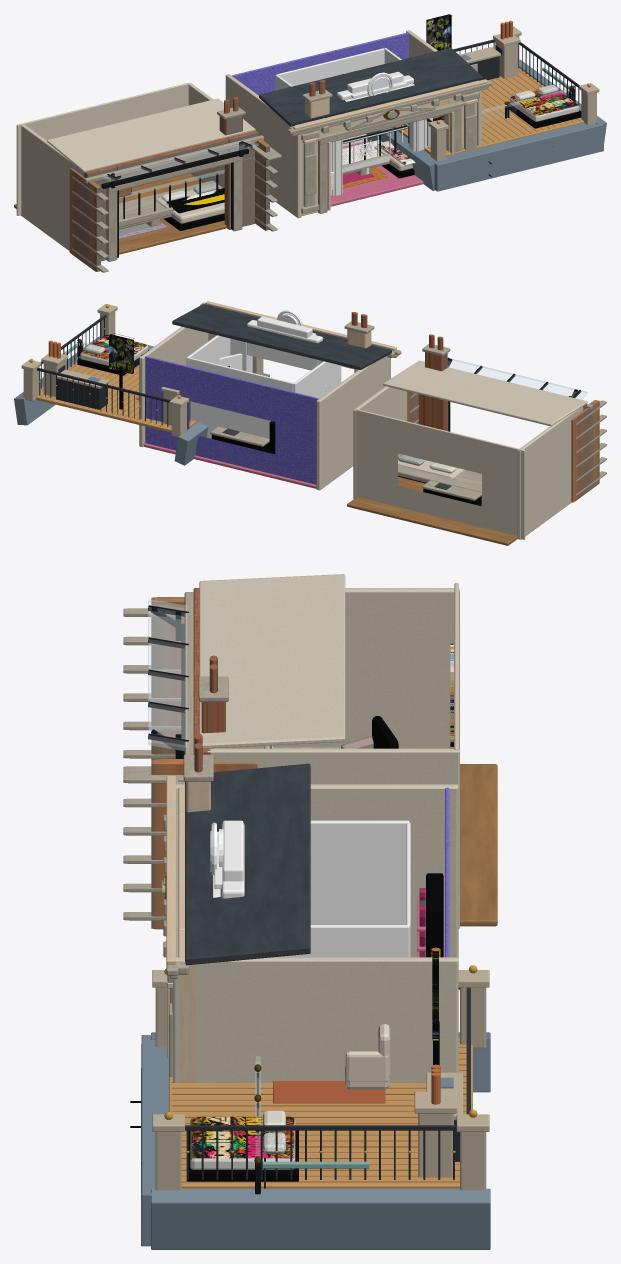
Rendered from environments.glb.
The picture shows the model from 3 angles, top to bottom: view 1: azimuth 30°, elevation 25°; view 2: azimuth 150°, elevation 25°; view 3: azimuth 270°, elevation 25°; orthographic projection. The views are drawn at different scales.
Parts seen in each view (by area): view 1: asm_a2_insideR.002, asm_a1_mansard, asm_rooftop_zinc_edge, asm_a2_insideL, asm_a1_back.001, asm_a1_insideL, asm_rooftop_wood_deck, asm_a1_back, asm_MOULD_A2_CORNER_PIER, asm_a2_floor, a3_back, asm_a2_wallR (+45 smaller); view 2: asm_a1_back.001, asm_a1_back, asm_a2_insideR.002, asm_a2_insideL, asm_a1_insideL, asm_a1_mansard, a3_back, asm_rooftop_wood_deck, asm_a2_floor, asm_MOULD_A2_CORNER_PIER, asm_a1_insideR, asm_a2_insideR (+27 smaller); view 3: asm_a1_insideR, asm_a2_insideR.002, asm_rooftop_zinc_side.001, asm_a1_mansard, asm_a2_insideL, asm_rooftop_wood_deck, a3_insideL, asm_a1_insideL, asm_a2_insideR, asm_a2_floor, asm_a2_canopy, asm_bed_mattress.001 (+19 smaller).
Part boxes in pixels (x1,y1,x2,y2): asm_a2_insideR.002: (47, 98, 255, 172); asm_a1_mansard: (259, 48, 482, 126); asm_rooftop_zinc_edge: (432, 121, 603, 191); asm_a2_insideL: (21, 124, 83, 250); asm_a1_back.001: (16, 82, 190, 215); asm_a1_insideL: (225, 74, 301, 218); asm_rooftop_wood_deck: (393, 68, 584, 156); asm_a1_back: (231, 32, 408, 95); asm_MOULD_A2_CORNER_PIER: (69, 168, 100, 271); asm_a2_floor: (14, 174, 226, 254); a3_back: (277, 48, 384, 146); asm_a2_wallR: (224, 130, 258, 229); asm_a1_back.001: (355, 409, 525, 539); asm_a1_back: (145, 356, 318, 484); asm_a2_insideR.002: (383, 360, 587, 426); asm_a2_insideL: (517, 406, 583, 539); asm_a1_insideL: (316, 356, 390, 490); asm_a1_mansard: (172, 304, 391, 369); a3_back: (188, 357, 293, 438); asm_rooftop_wood_deck: (36, 361, 196, 432); asm_a2_floor: (347, 477, 517, 545); asm_MOULD_A2_CORNER_PIER: (571, 400, 599, 502); asm_a1_insideR: (139, 326, 208, 447); asm_a2_insideR: (353, 386, 406, 498); asm_a1_insideR: (173, 957, 458, 1082); asm_a2_insideR.002: (199, 574, 345, 748); asm_rooftop_zinc_side.001: (151, 1188, 490, 1249); asm_a1_mansard: (185, 763, 310, 965); asm_a2_insideL: (212, 588, 459, 749); asm_rooftop_wood_deck: (169, 1038, 472, 1188); a3_insideL: (310, 820, 409, 924); asm_a1_insideL: (176, 784, 458, 958); asm_a2_insideR: (207, 748, 459, 928); asm_a2_floor: (460, 764, 497, 926); asm_a2_canopy: (148, 599, 186, 750); asm_bed_mattress.001: (190, 1116, 295, 1169).
Bounding box in the file's own units: 21.2 × 4.97 × 6.83.
Materials: 420 (239 with a texture image).
